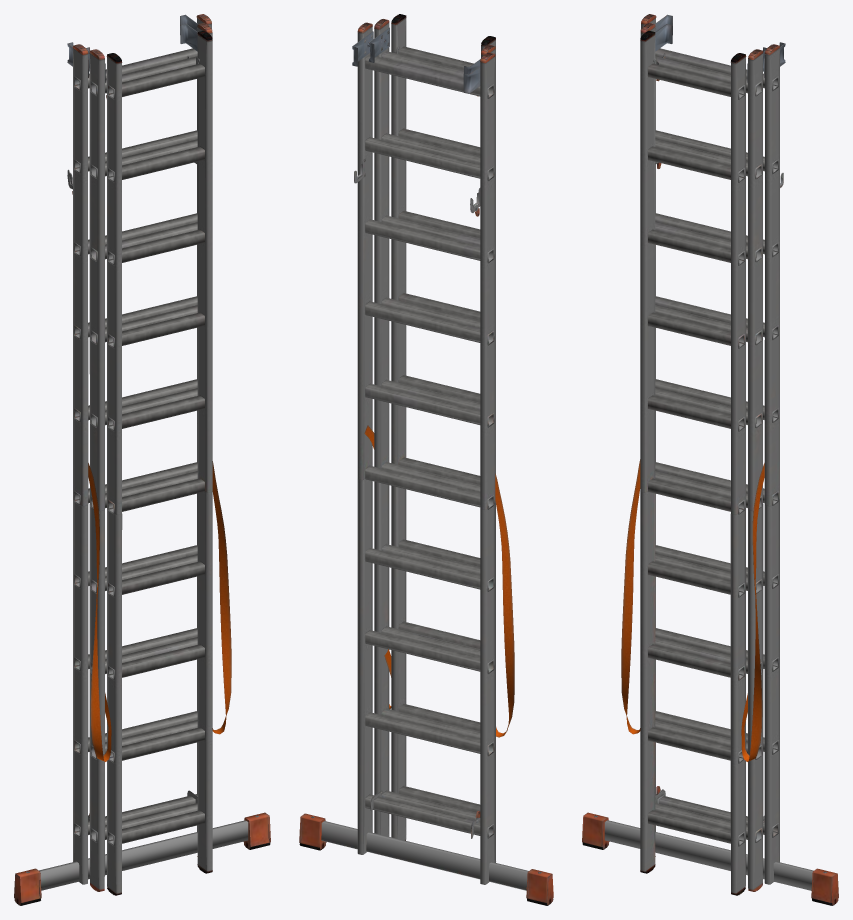
The model's file is ladder_sectioned_01.glb.
3 renders of one model, left to right at view 1: azimuth 30°, elevation 25°; view 2: azimuth 150°, elevation 25°; view 3: azimuth 330°, elevation 25°, orthographic.
Visible parts, largest first — view 1: ladder_section_01; view 2: ladder_section_01; view 3: ladder_section_01.
Boxes of the visible parts, x1,y1,x2,y2 form: ladder_section_01: (14,14,270,905); ladder_section_01: (299,14,553,905); ladder_section_01: (582,14,838,905).
Bounding box in the file's own units: 0.6615 × 2.13 × 0.1774.
1 material, 1 textured.
